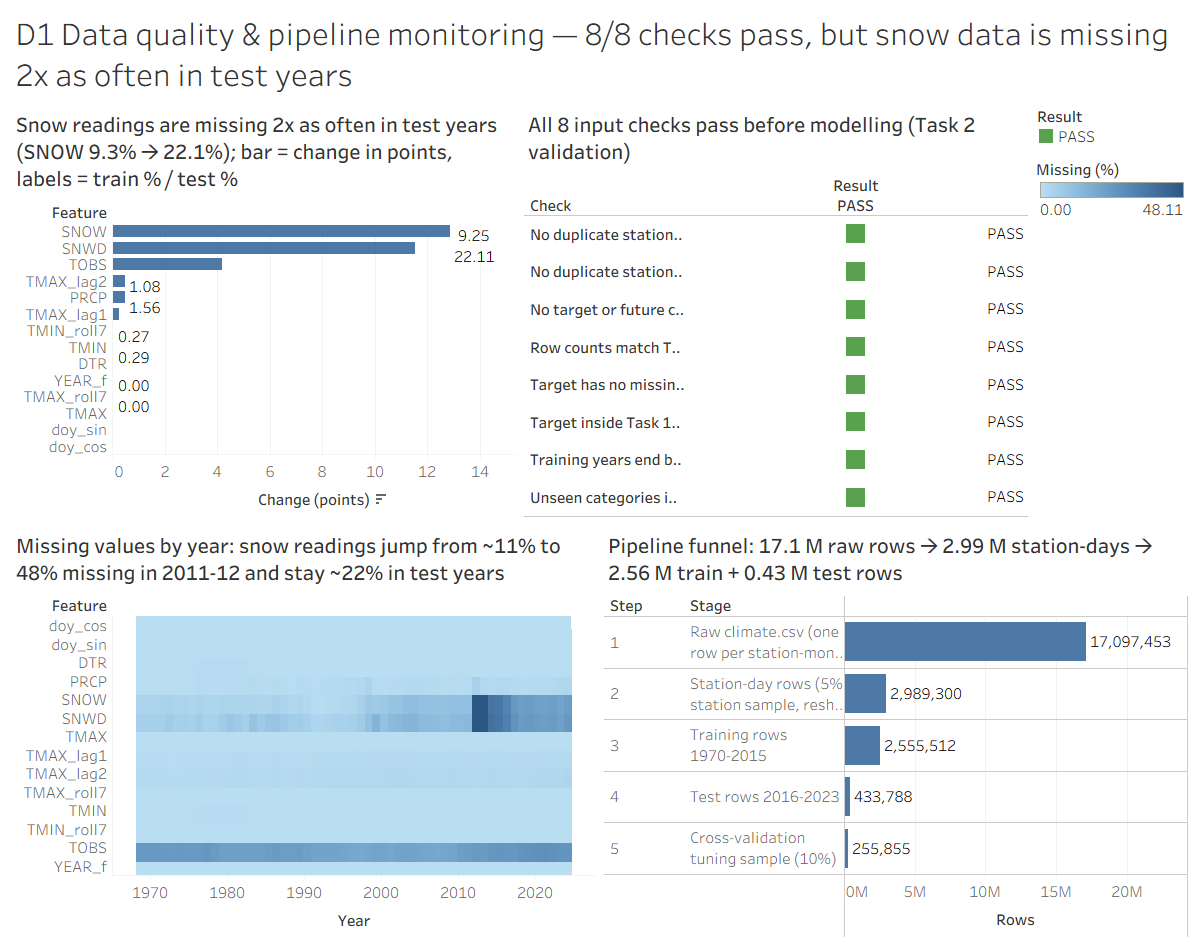

The page's visual inventory and layout, read from the dashboard file:
{"tool":"tableau","page":{"name":"D1 Data quality & pipeline monitoring","canvas":[1200,950],"ordinal":0},"visuals":[{"type":"title","box":[8,8,1184,92]},{"type":"worksheet","title":"D1 drift","mark":"Automatic","rows":["Feature"],"cols":["Change (points)"],"box":[8,100,512,421]},{"type":"worksheet","title":"D1 checks","mark":"Square","rows":["Check"],"cols":["Result"],"box":[520,100,512,421]},{"type":"legend","title":"D1 checks","param":"[federated.0bb8bzl0vw8v6t1glniit0gdj98i].[none:Result:nk]","box":[1032,100,160,51]},{"type":"legend","title":"D1 heatmap","param":"[federated.13u8c2b1b2fceu13y0xth1e95ztp].[sum:Missing (%):qk]","box":[1032,151,160,73]},{"type":"worksheet","title":"D1 heatmap","mark":"Square","rows":["Feature"],"cols":["Year"],"box":[8,521,592,421]},{"type":"worksheet","title":"D1 funnel","mark":"Automatic","rows":["Step","Stage"],"cols":["Rows"],"box":[600,521,592,421]}]}

Visuals, with their boxes in screenshot pixels (x1, y1, x2, y2), scaled from the page's 1200x950 canvas onto the 1200x950 screenshot:
title: (8, 8, 1192, 100)
"D1 drift" worksheet: (8, 100, 520, 521)
"D1 checks" worksheet (Square marks): (520, 100, 1032, 521)
"D1 checks" legend: (1032, 100, 1192, 151)
"D1 heatmap" legend: (1032, 151, 1192, 224)
"D1 heatmap" worksheet (Square marks): (8, 521, 600, 942)
"D1 funnel" worksheet: (600, 521, 1192, 942)
